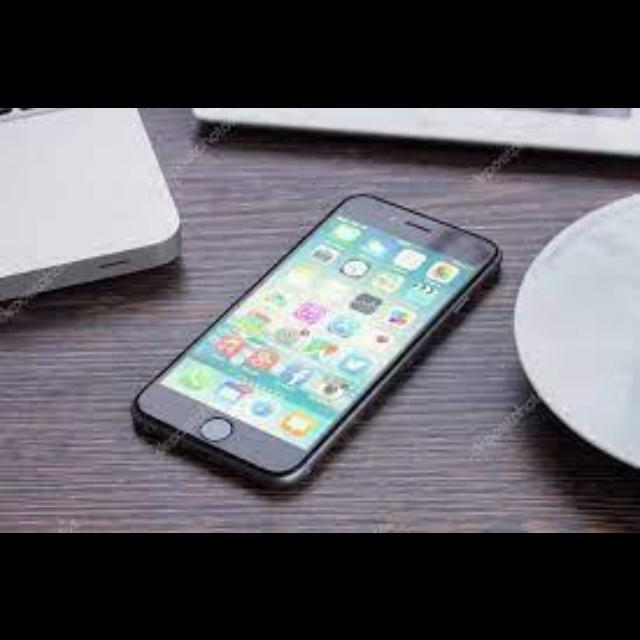phone: (95, 147, 640, 515)
